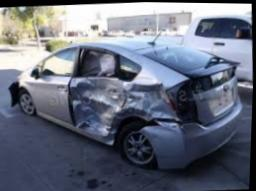Bumper: (140, 122, 222, 168)
Door: (68, 44, 127, 136)
Fender: (122, 80, 179, 120)
